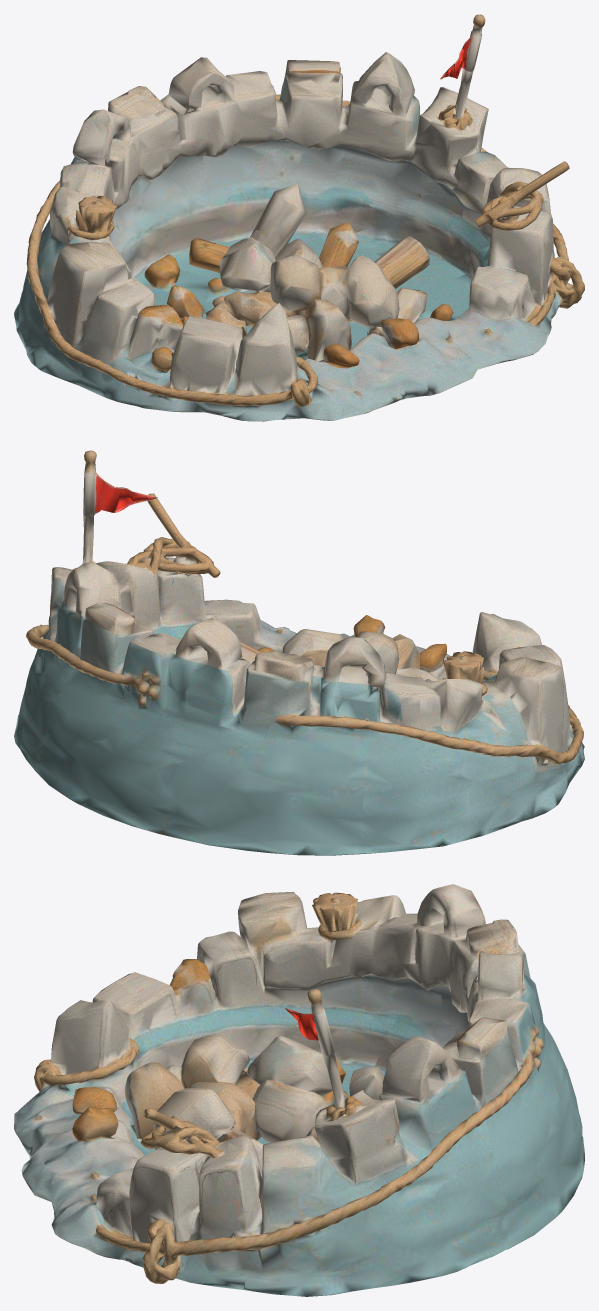
File: sling_crystalCrater.glb
The picture shows the model from 3 angles, top to bottom: view 1: azimuth 30°, elevation 25°; view 2: azimuth 150°, elevation 25°; view 3: azimuth 270°, elevation 25°; orthographic projection. The views are drawn at different scales.
Size of the model in its own units: 1.9 by 0.8989 by 1.64.
1 material, 1 textured.
